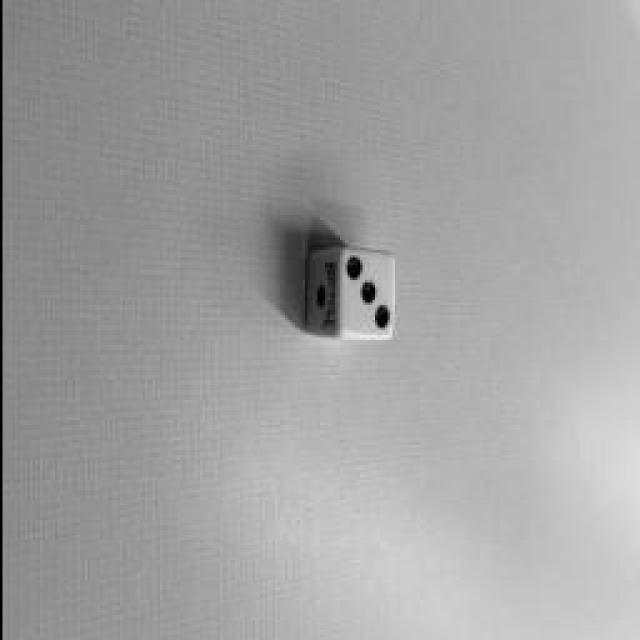dice_3: (338, 249, 392, 339)
